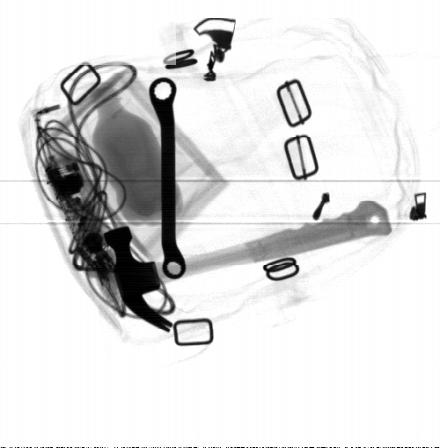Hammer: (103, 200, 394, 333)
Wrench: (149, 76, 186, 278)
